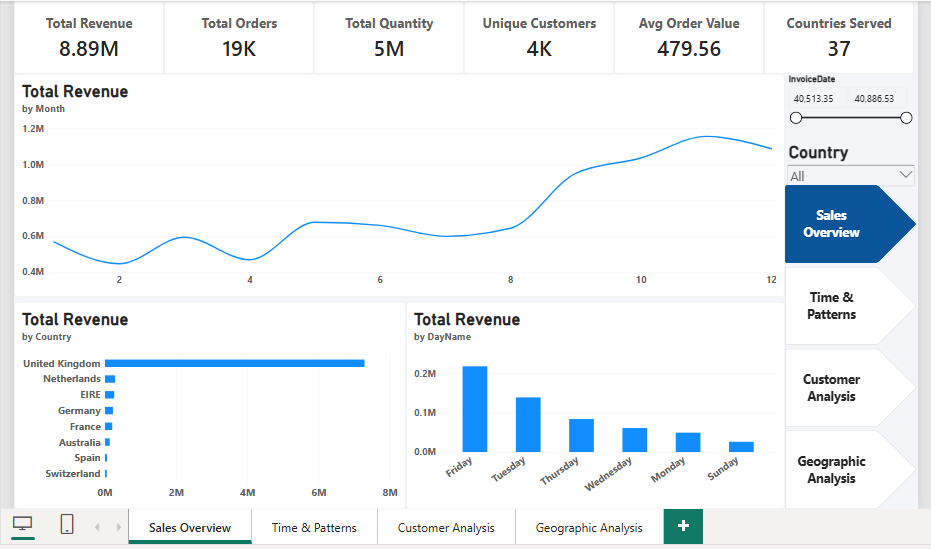

Layout of this report page (visuals, bound fields, positions):
{"tool":"powerbi","page":{"name":"Sales Overview","canvas":[1920,1080],"ordinal":0},"visuals":[{"type":"cardVisual","fields":{"Data":["Sheet1.Revenue"]},"box":[0,0,318.9,155.2],"z":0},{"type":"cardVisual","fields":{"Data":["Sheet1.Avg Order Value"]},"box":[1275.6,0,318.9,155.2],"z":1000},{"type":"cardVisual","fields":{"Data":["Sheet1.Unique Customers"]},"box":[956.7,0,318.9,155.2],"z":2000},{"type":"cardVisual","fields":{"Data":["Sheet1.Total Quantity"]},"box":[637.8,0,318.9,155.2],"z":3000},{"type":"cardVisual","fields":{"Data":["Sheet1.Total Orders"]},"box":[318.9,0,318.9,155.2],"z":4000},{"type":"cardVisual","fields":{"Data":["Sheet1.Countries Served"]},"box":[1594.5,0,318.9,155.2],"z":5000},{"type":"lineChart","fields":{"Category":["Sheet1.Month"],"Y":["Sheet1.Total Revenue"]},"box":[0,155.2,1639.1,474.1],"z":6000},{"type":"barChart","fields":{"Category":["Sheet1.Country"],"Y":["Sheet1.Total Revenue"]},"box":[0,639.9,833.4,440.1],"z":7000},{"type":"columnChart","fields":{"Category":["Sheet1.DayName"],"Y":["Sheet1.Total Revenue"]},"box":[833.4,639.9,805.7,440.1],"z":8000},{"type":"slicer","fields":{"Values":["Sheet1.InvoiceDate"]},"box":[1639.1,155.2,274.3,144.6],"z":9000},{"type":"slicer","fields":{"Values":["Sheet1.Country"]},"box":[1638.3,300,280.9,157.4],"z":10000},{"type":"pageNavigator","box":[1638.3,391.5,280.9,689.4],"z":11000}]}

Visuals, with their boxes on the page's 1920x1080 design canvas (x1, y1, x2, y2). These are canvas units, not pixel positions in the 931x549 screenshot, which may show the page scaled, cropped or inside an application window:
cardVisual - Sheet1.Revenue: crop(0, 0, 319, 155)
cardVisual - Sheet1.Avg Order Value: crop(1276, 0, 1594, 155)
cardVisual - Sheet1.Unique Customers: crop(957, 0, 1276, 155)
cardVisual - Sheet1.Total Quantity: crop(638, 0, 957, 155)
cardVisual - Sheet1.Total Orders: crop(319, 0, 638, 155)
cardVisual - Sheet1.Countries Served: crop(1594, 0, 1913, 155)
lineChart - Sheet1.Month x Sheet1.Total Revenue: crop(0, 155, 1639, 629)
barChart - Sheet1.Country x Sheet1.Total Revenue: crop(0, 640, 833, 1080)
columnChart - Sheet1.DayName x Sheet1.Total Revenue: crop(833, 640, 1639, 1080)
slicer - Sheet1.InvoiceDate: crop(1639, 155, 1913, 300)
slicer - Sheet1.Country: crop(1638, 300, 1919, 457)
pageNavigator: crop(1638, 392, 1919, 1081)
